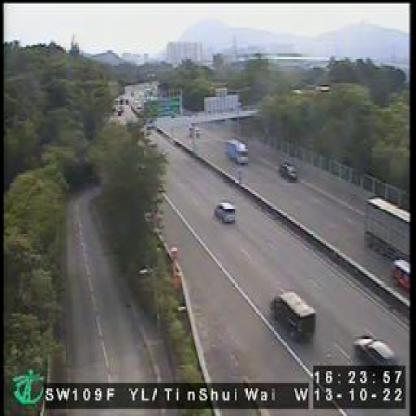Car: (352, 332, 401, 383), (270, 290, 316, 343), (390, 254, 414, 298), (213, 198, 237, 225), (278, 161, 300, 182)
Truck: (365, 194, 410, 265), (226, 136, 249, 168)
